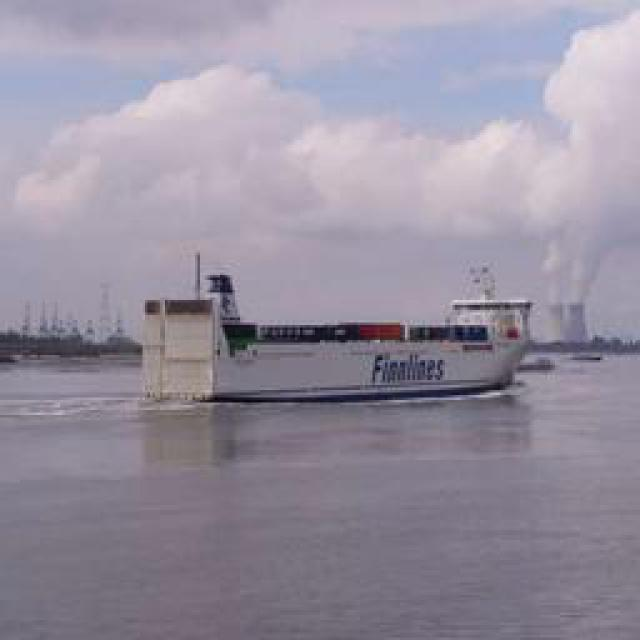Ship: (149, 270, 532, 400)
